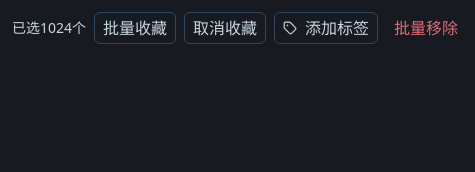
Test case: splits more than 1000 items into sequential chunks and merges the replies
This screenshot has width=475, height=172.
Click the button "批量收藏".
click(135, 28)  # box [94,12,176,44]
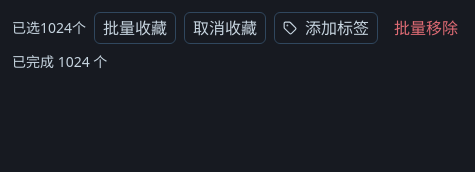
expect the text "已完成 1024 个" is shown: met, box [12,52,107,71]
